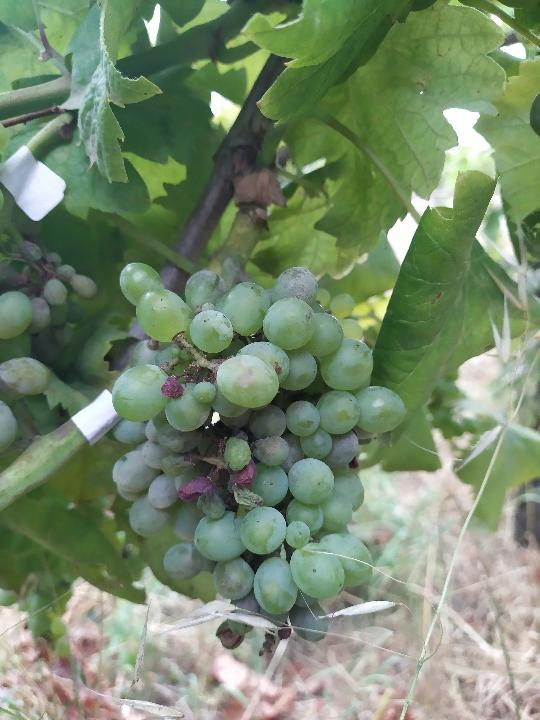grape: (108, 260, 410, 644)
